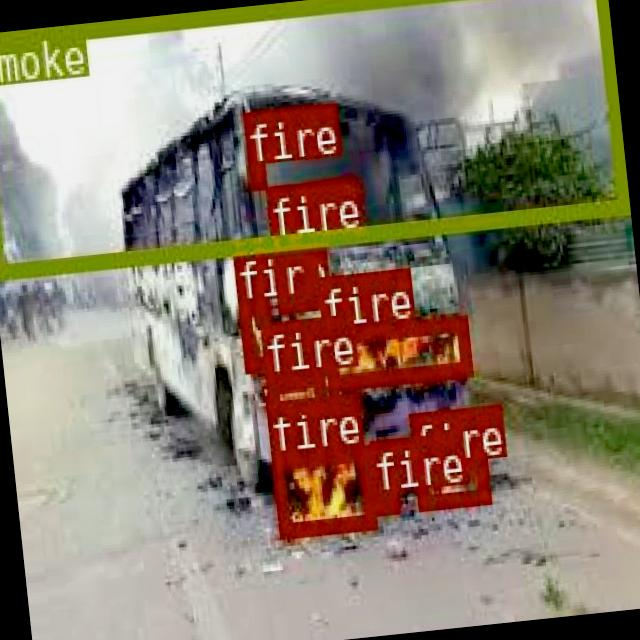fire: (321, 312, 468, 388), (268, 444, 374, 537), (268, 232, 318, 310), (411, 458, 488, 508), (264, 369, 326, 414), (235, 297, 272, 371), (246, 161, 264, 186), (374, 490, 396, 510)
smoke: (0, 0, 625, 275)
